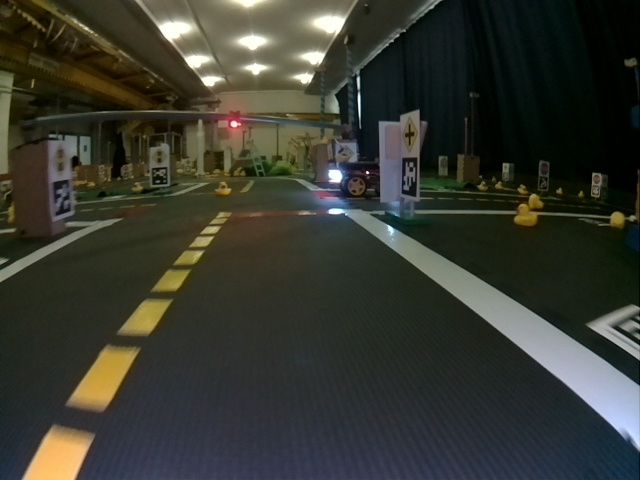Duckie: (514, 205, 537, 225), (613, 212, 624, 228), (216, 183, 230, 194), (529, 194, 540, 208), (133, 183, 142, 193), (518, 186, 526, 194), (495, 182, 504, 189), (478, 183, 485, 190)
Duckiebot: (337, 163, 379, 195)
Intersection sign: (402, 115, 419, 154)
QR code: (52, 179, 73, 215), (402, 157, 419, 197), (152, 167, 168, 185), (539, 176, 548, 190), (593, 187, 601, 197)
Signal sign: (51, 143, 69, 177), (152, 148, 166, 165)
Traffic light: (229, 111, 241, 128)
